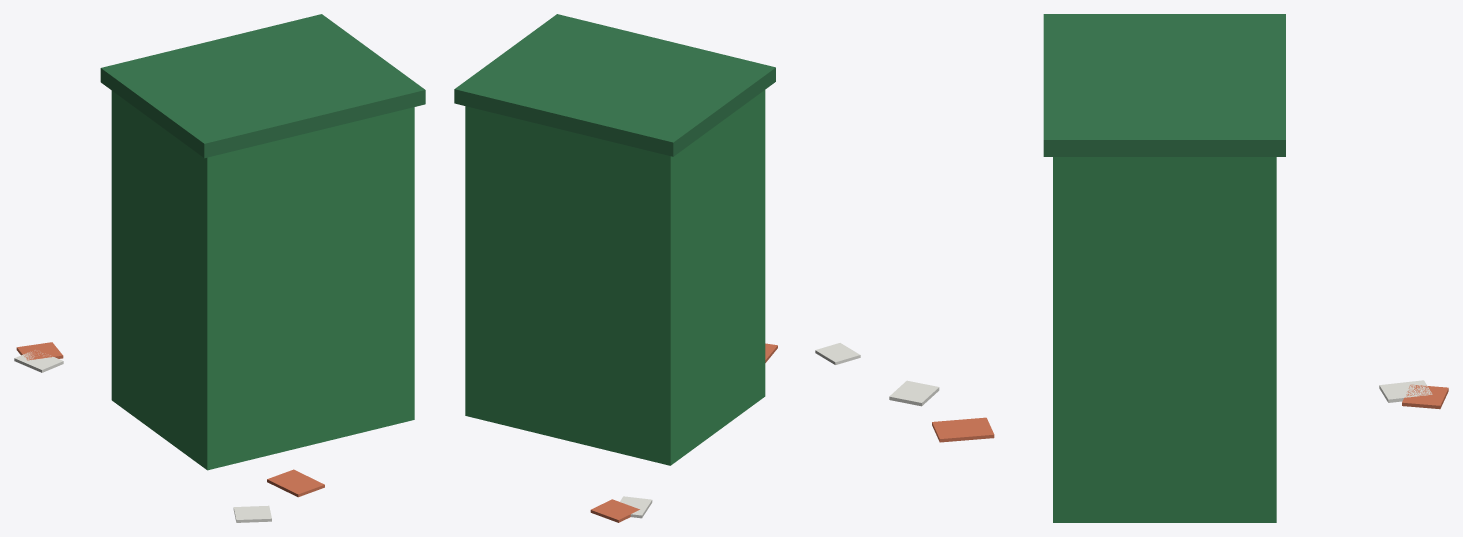
The model's file is life_bin.glb.
3 renders of one model, left to right at view 1: azimuth 30°, elevation 25°; view 2: azimuth 150°, elevation 25°; view 3: azimuth 270°, elevation 25°, orthographic. The views are drawn at different scales.
Parts seen in each view (by area): view 1: Bin; view 2: Bin; view 3: Bin.
Boxes of the visible parts, x1=… form: Bin: x1=14, y1=14, x2=425, y2=522; Bin: x1=454, y1=14, x2=860, y2=522; Bin: x1=889, y1=14, x2=1448, y2=522.
Bounding box in the file's own units: 0.8989 × 1.14 × 1.5.
